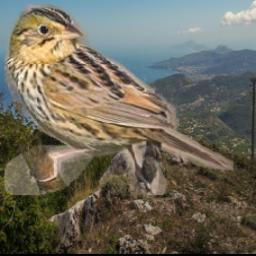Sparrow: (4, 4, 234, 195)
